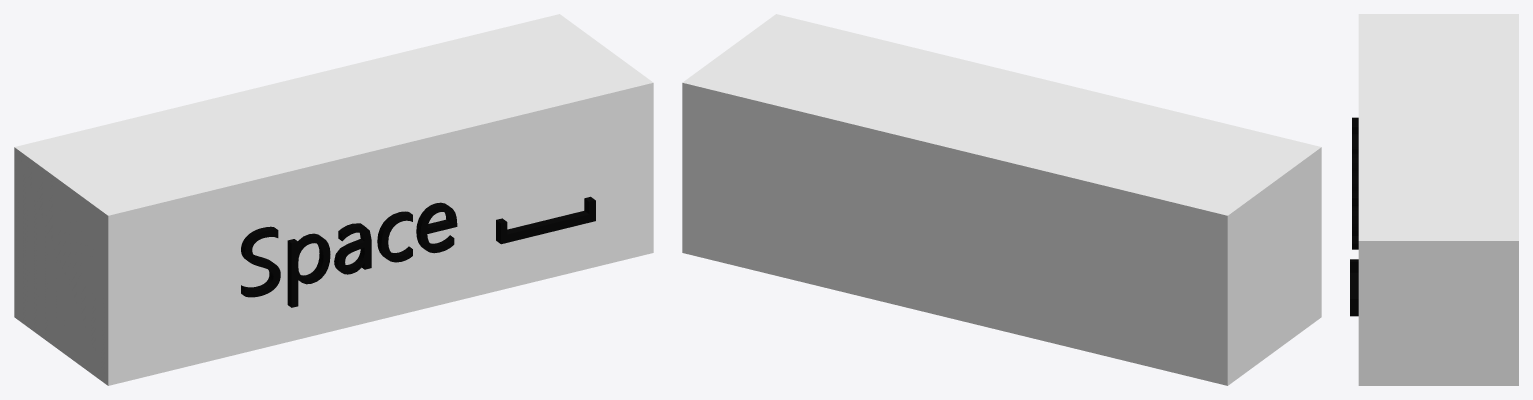
Rendered from Space.fbx.
The picture shows the model from 3 angles, left to right: view 1: azimuth 30°, elevation 25°; view 2: azimuth 150°, elevation 25°; view 3: azimuth 270°, elevation 25°; orthographic projection. The views are drawn at different scales.
Visible parts, largest first — view 1: root, node_id95, node_id102; view 2: root; view 3: root, node_id95, node_id102.
Boxes of the visible parts, x1,y1,x2,y2 form: root: (14, 14, 653, 385); node_id95: (241, 202, 457, 307); node_id102: (496, 196, 595, 244); root: (682, 14, 1321, 385); root: (1358, 14, 1518, 385); node_id95: (1352, 117, 1358, 249); node_id102: (1350, 259, 1358, 316).
Size of the model in its own units: 0.7735 by 0.2306 by 0.2431.
3 materials, 1 textured.
